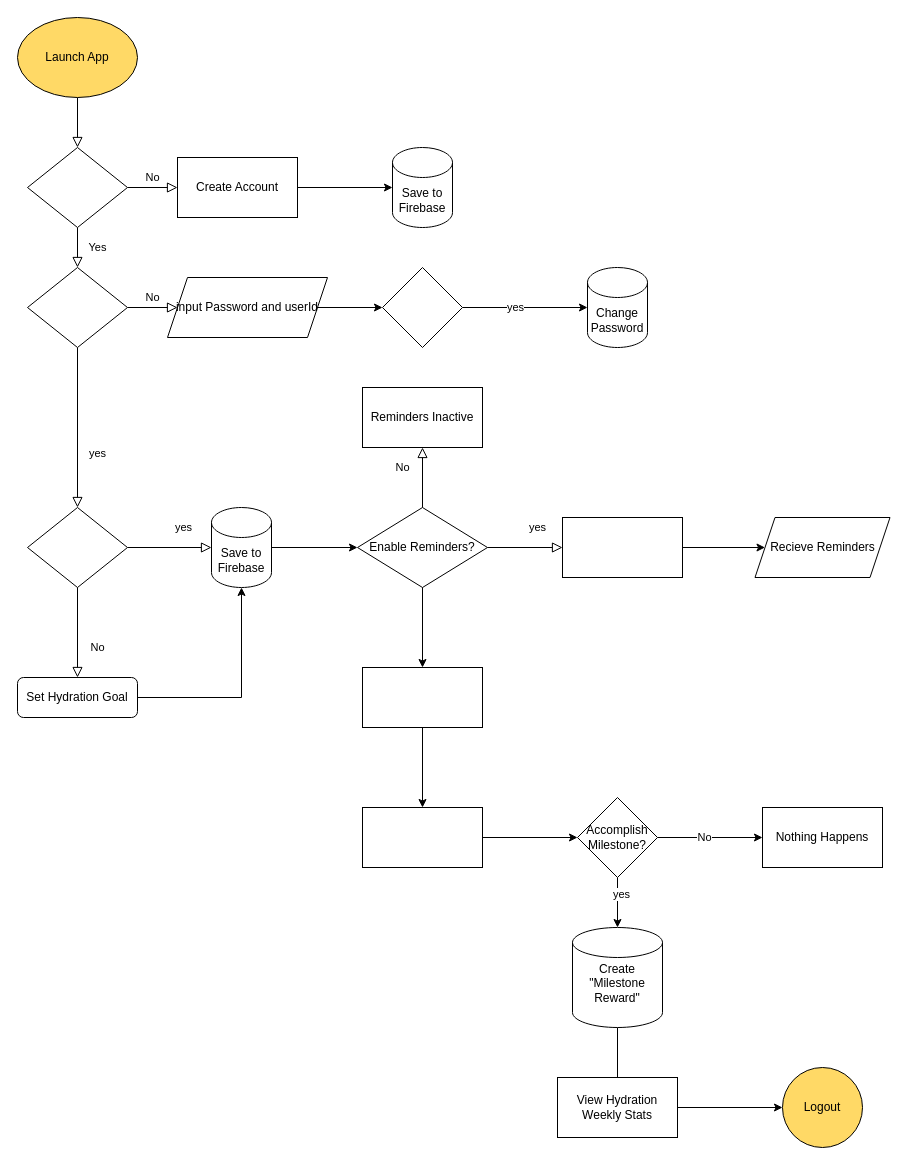
Image size: 908x1165. Some labels were removed from this diagram. The shapes that lost their labels are listed below. From the top down, each one's box as (x1, y1, x2, y2) in pixels, then its label:
(26, 146, 128, 228): Have Account?
(26, 266, 128, 348): Logged In?
(382, 266, 462, 348): Forgot Password?
(26, 506, 128, 588): Have Hydration Goal?
(562, 516, 682, 578): Reminders Active
(362, 666, 482, 728): Track Hygien Intake
(362, 806, 482, 868): Display Progress
